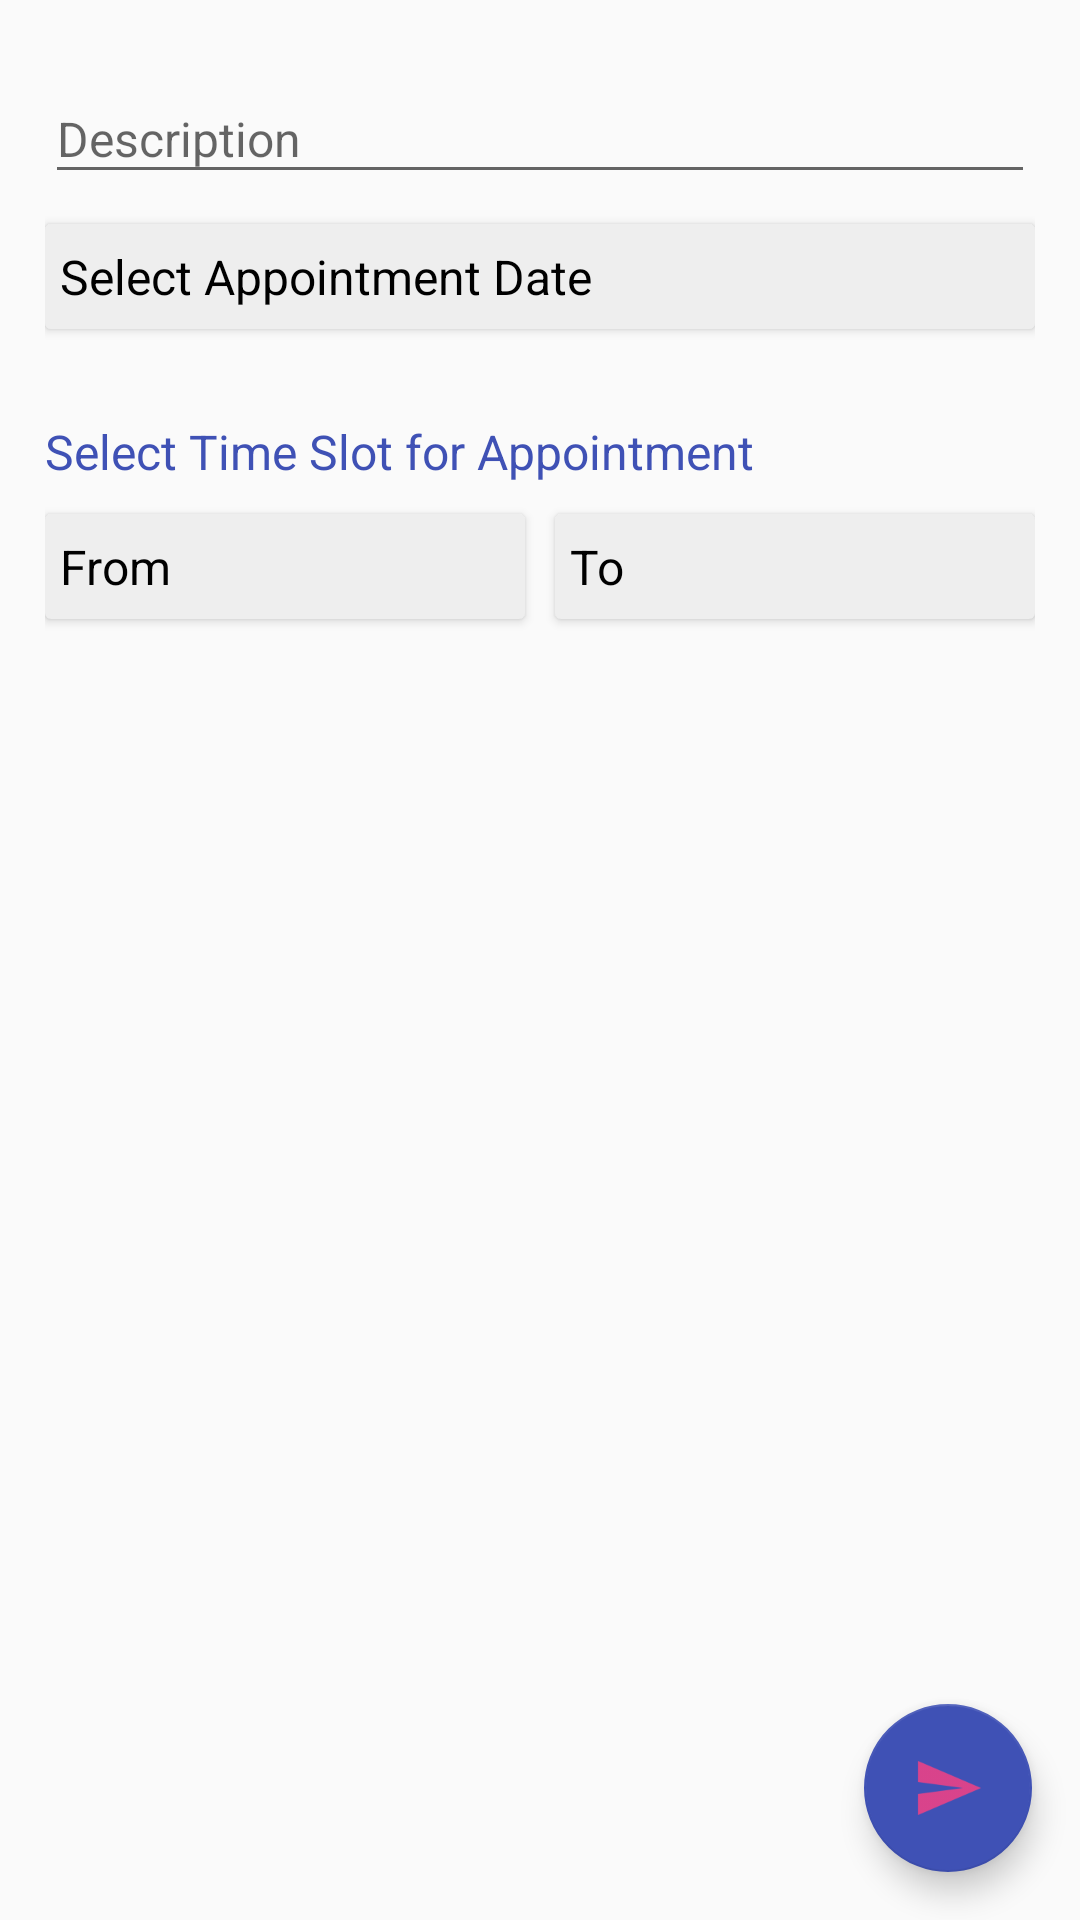

Where to tap for icons on this 1080w x 1920h app screen, as [x,y]:
fab send: [948,1788]
